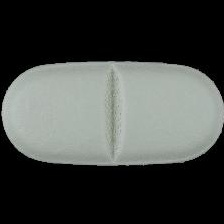0228-2636: (0, 0, 224, 224)
